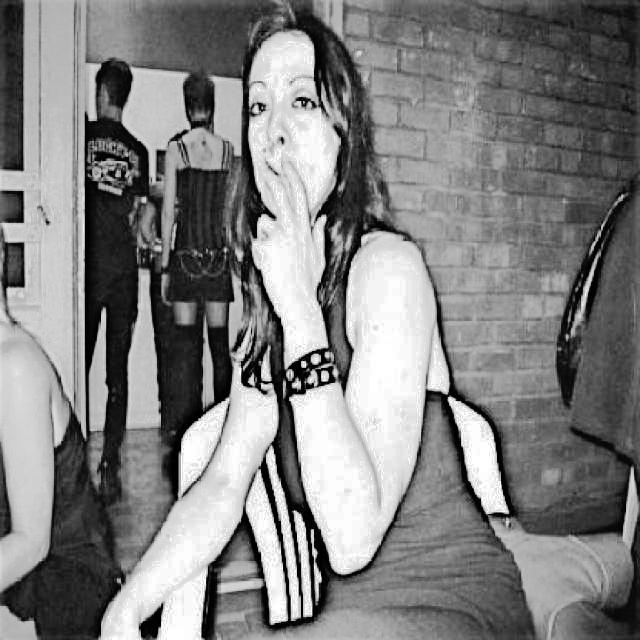Person: (104, 0, 529, 640), (158, 65, 244, 468), (78, 46, 154, 497)
